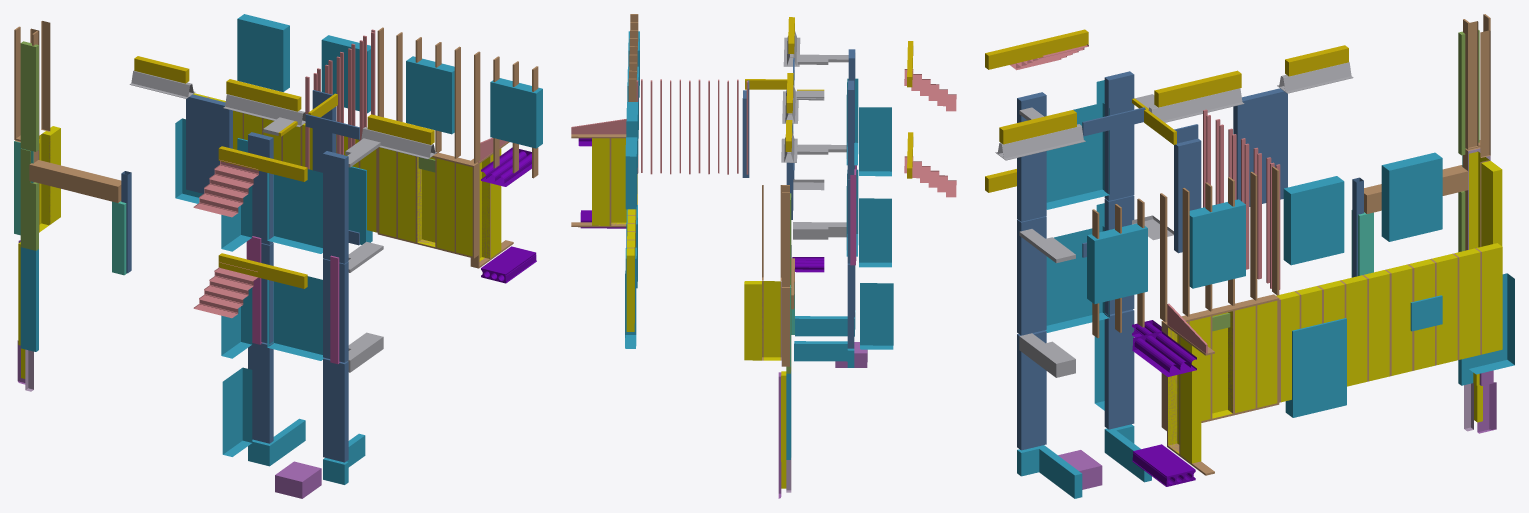
3 views of the same model, side by side, from view 1: azimuth 30°, elevation 25°; view 2: azimuth 150°, elevation 25°; view 3: azimuth 270°, elevation 25° (orthographic). The views are drawn at different scales.
Bounding box in the file's own units: 12.1 × 10.54 × 12.27.
